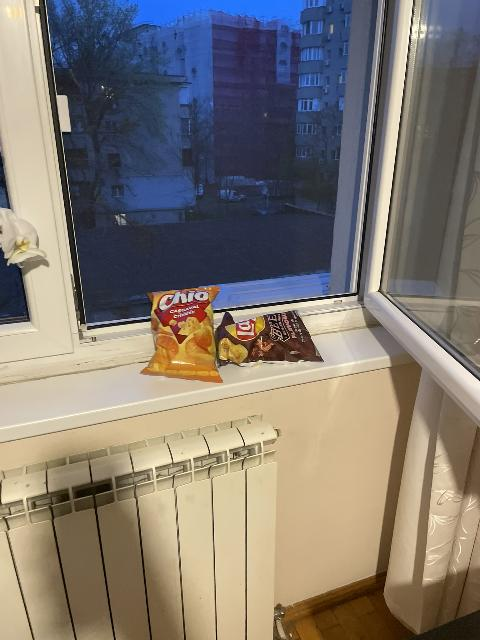Chio Cascaval 125g: (140, 287, 223, 381)
Lays Beef Grilled Ribs 125g: (217, 306, 323, 365)
